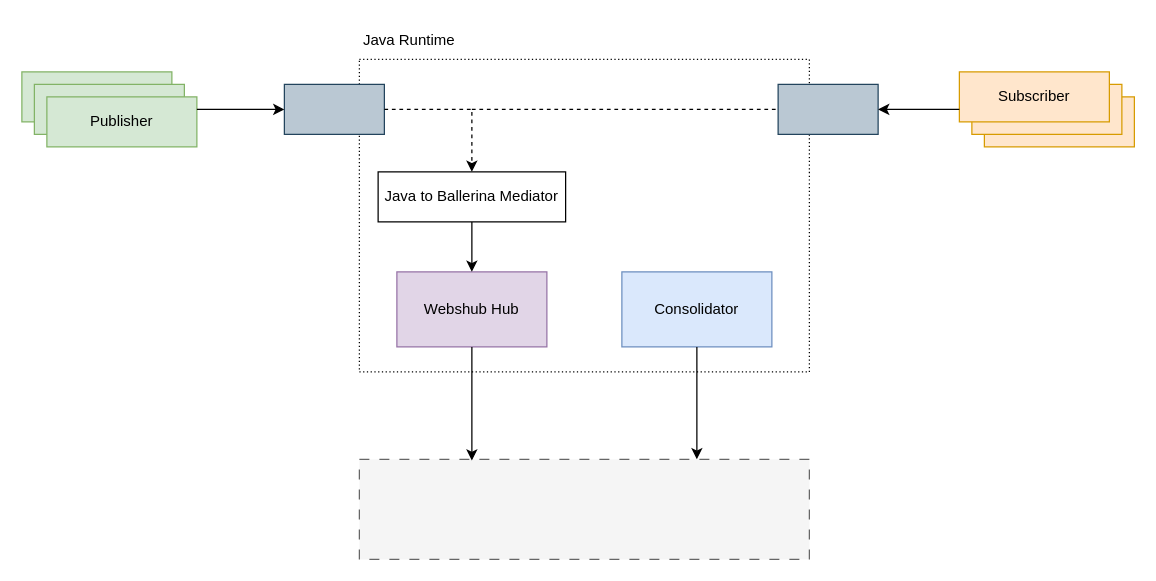
The diagram is 1156 pixels wide and 581 high, and some of its shapes have lost their labels. Each missing label, with the centre of its shape:
JMS Provider: the point at 583,508
Publisher Endpoint: the point at 333,108
Subscriber Endpoint: the point at 827,108
